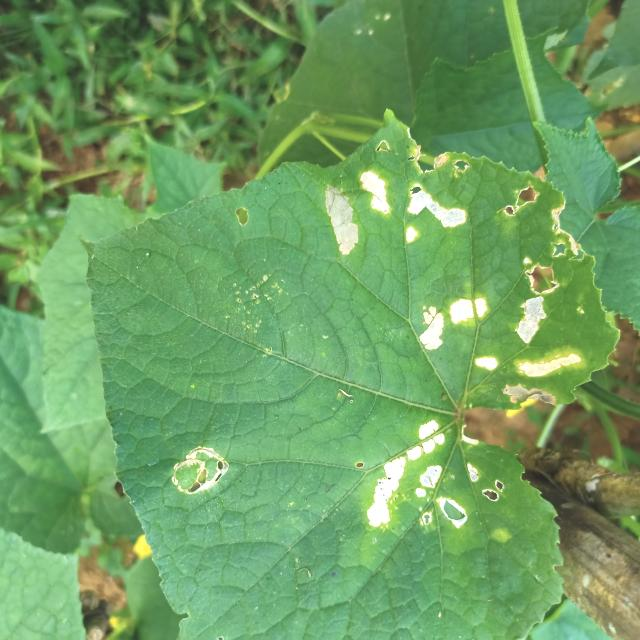disease_cucumber: (362, 412, 511, 542), (501, 223, 600, 405), (414, 289, 500, 375), (321, 165, 391, 258), (399, 165, 474, 244)
